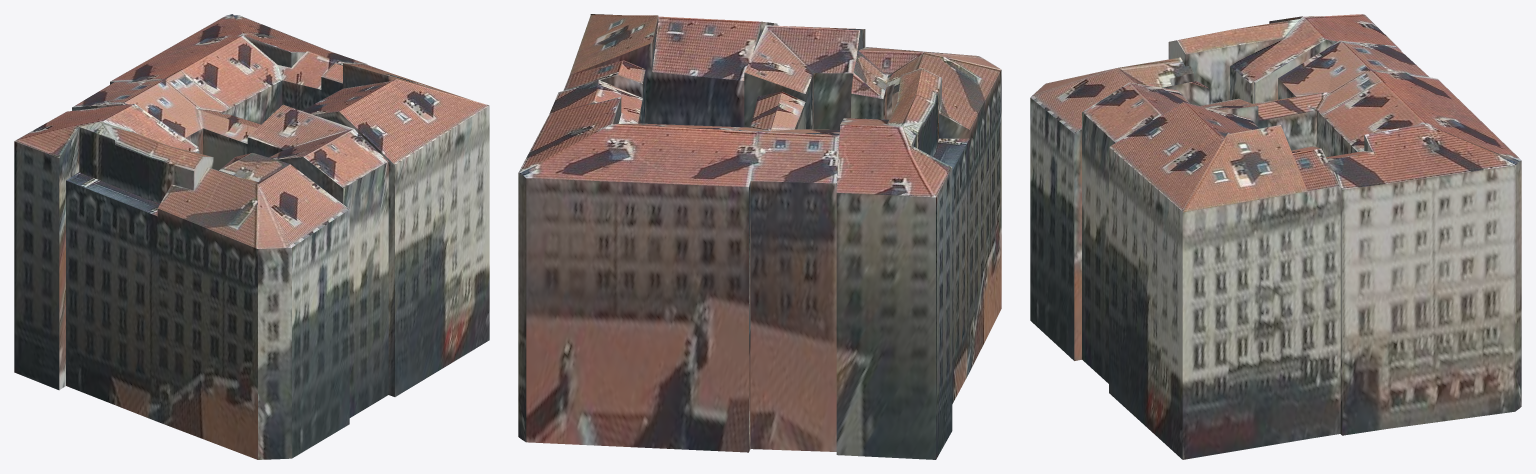
The model's file is LYON_1ER_00070.dae.
3 views of the same model, side by side, from view 1: azimuth 30°, elevation 25°; view 2: azimuth 150°, elevation 25°; view 3: azimuth 270°, elevation 25° (orthographic). The views are drawn at different scales.
Size of the model in its own units: 47.21 by 48.71 by 31.06.
2 materials, 2 textured.
